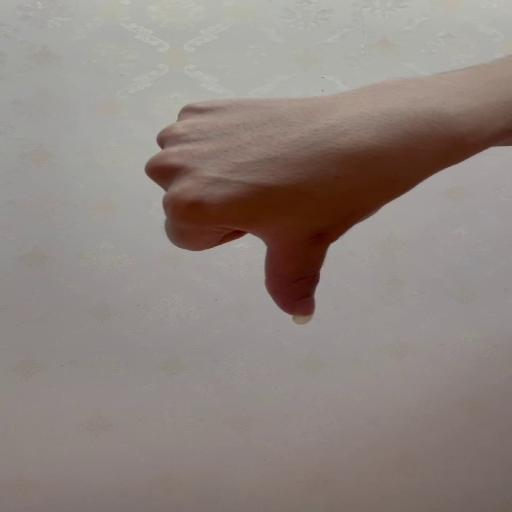thumbs_down: (142, 95, 427, 326)
